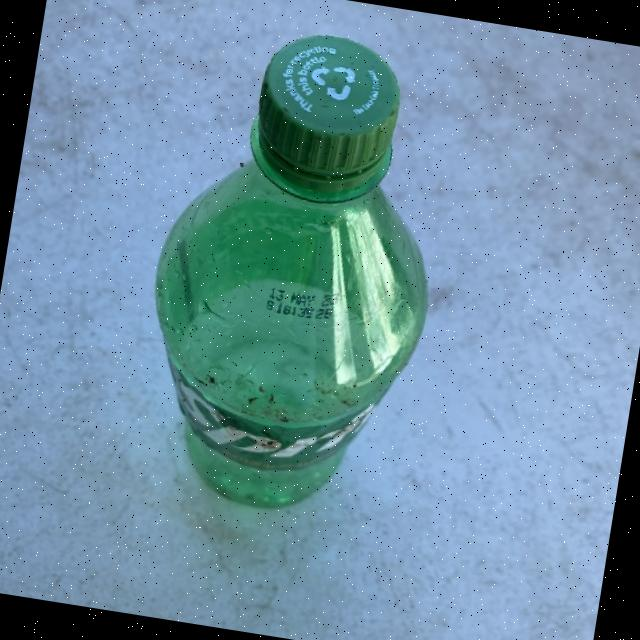plastic: (120, 12, 468, 528)
